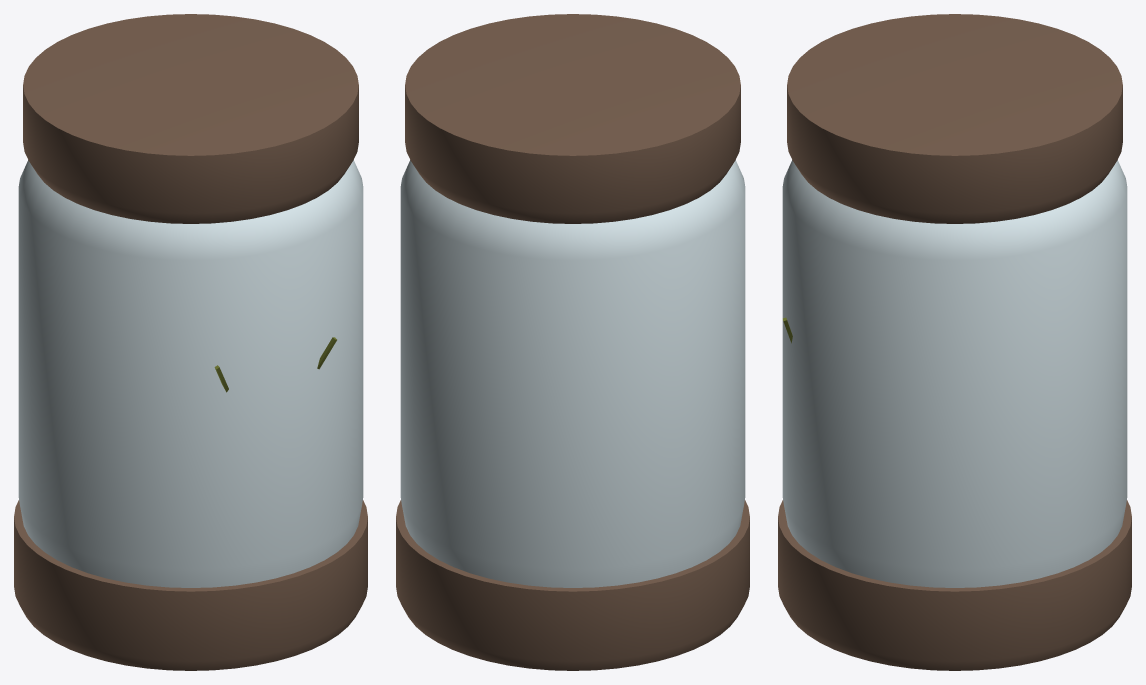
Rendered from PR_CricketJar.fbx.
3 renders of one model, left to right at view 1: azimuth 30°, elevation 25°; view 2: azimuth 150°, elevation 25°; view 3: azimuth 270°, elevation 25°, orthographic.
Parts seen in each view (by area): view 1: PR_CricketJar_GlassClear, PR_CricketJar_Rust; view 2: PR_CricketJar_GlassClear, PR_CricketJar_Rust; view 3: PR_CricketJar_GlassClear, PR_CricketJar_Rust.
Boxes of the visible parts, box(x1,y1,x2,y2) form: PR_CricketJar_GlassClear: box(18, 160, 363, 587); PR_CricketJar_Rust: box(14, 14, 367, 670); PR_CricketJar_GlassClear: box(400, 160, 745, 587); PR_CricketJar_Rust: box(396, 14, 749, 670); PR_CricketJar_GlassClear: box(782, 160, 1127, 587); PR_CricketJar_Rust: box(778, 14, 1131, 670).
Size of the model in its own units: 0.156 by 0.252 by 0.156.
